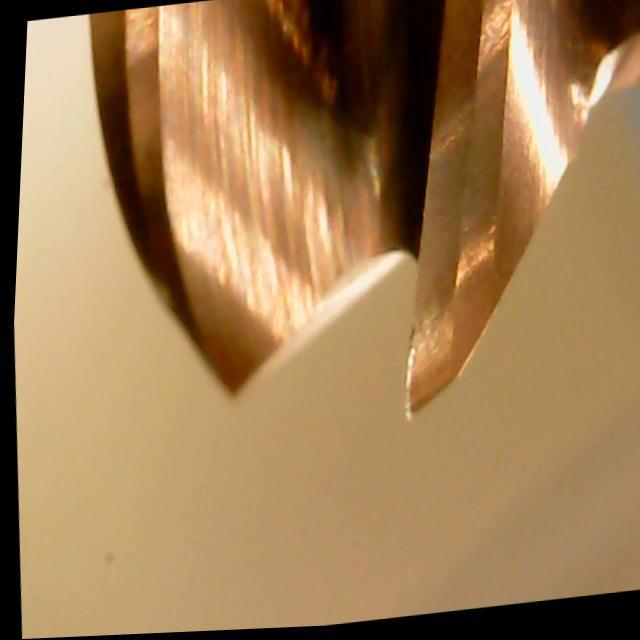Tool-wear-class-0: (378, 96, 514, 429)
